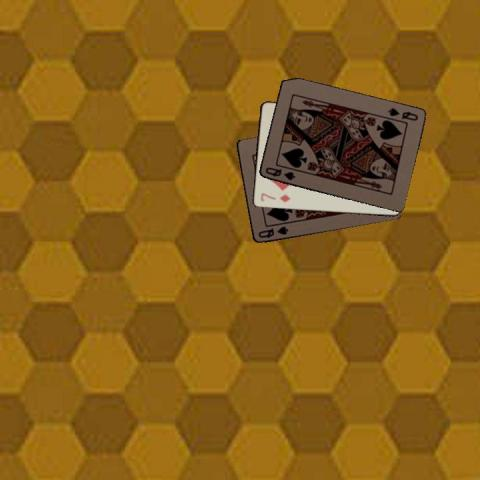7d: (258, 190, 292, 204)
Qs: (262, 164, 297, 182), (386, 104, 420, 122), (255, 224, 290, 240)
